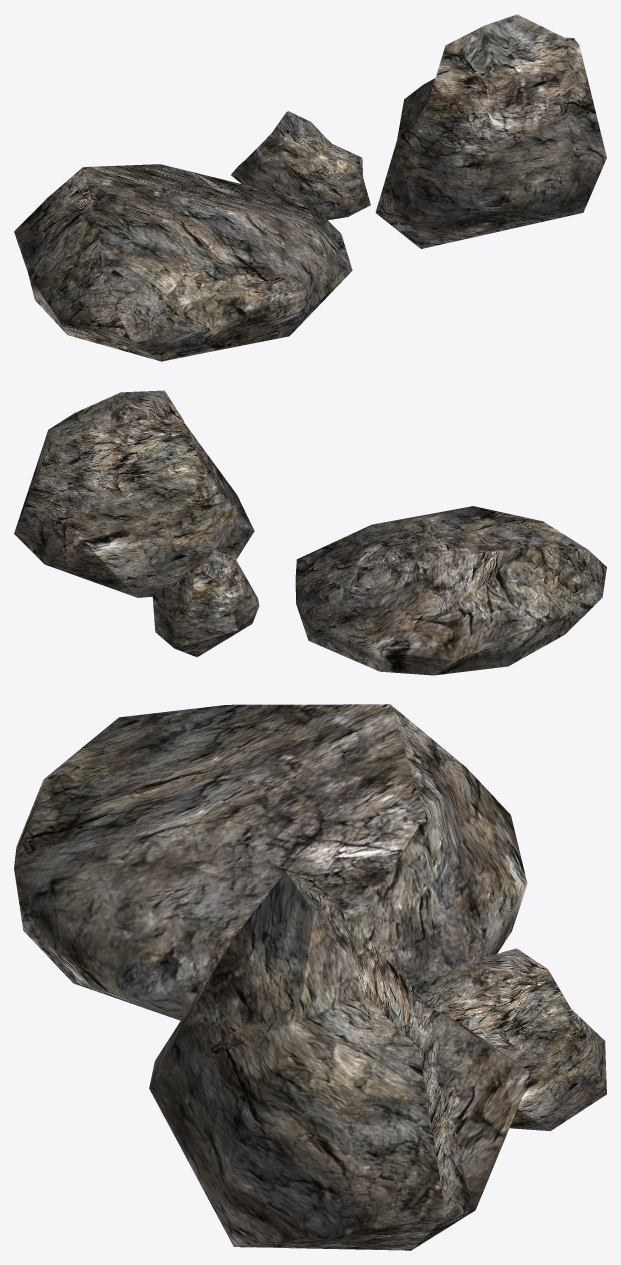
The model's file is pir_m_prp_cav_rockGroup_j.fbx.
3 views of the same model, one above another, from view 1: azimuth 30°, elevation 25°; view 2: azimuth 150°, elevation 25°; view 3: azimuth 270°, elevation 25° (orthographic). The views are drawn at different scales.
Parts seen in each view (by area): view 1: rock_1, rock_2, rock_3; view 2: rock_1, rock_2, rock_3; view 3: rock_1, rock_2, rock_3.
Part boxes in pixels (x1=…): rock_1: x1=14, y1=164, x2=352, y2=361; rock_2: x1=375, y1=14, x2=606, y2=248; rock_3: x1=231, y1=111, x2=370, y2=220; rock_1: x1=295, y1=506, x2=606, y2=675; rock_2: x1=14, y1=390, x2=254, y2=597; rock_3: x1=152, y1=550, x2=259, y2=657; rock_1: x1=14, y1=704, x2=527, y2=1020; rock_2: x1=149, y1=871, x2=531, y2=1250; rock_3: x1=414, y1=948, x2=606, y2=1131.
Size of the model in its own units: 986 by 346 by 537.
Materials: 1 (1 with a texture image).
